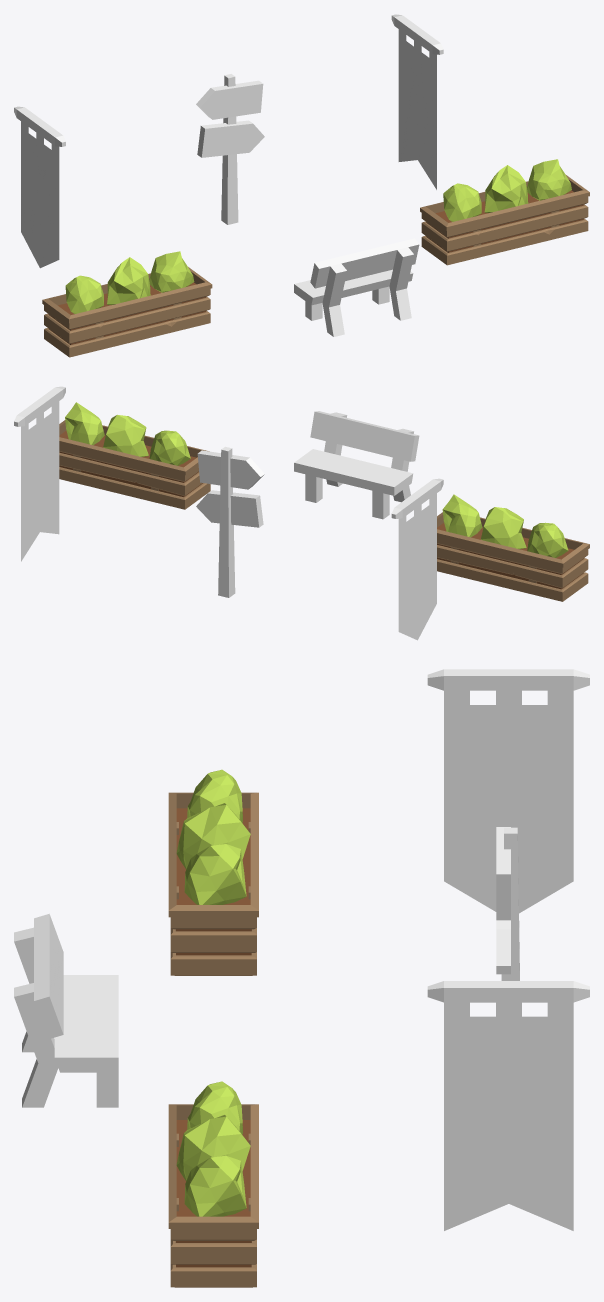
Rendered from combo-wayfinding-node.glb.
The picture shows the model from 3 angles, top to bottom: view 1: azimuth 30°, elevation 25°; view 2: azimuth 150°, elevation 25°; view 3: azimuth 270°, elevation 25°; orthographic projection. The views are drawn at different scales.
Visible parts, largest first — view 1: 04_asset-072, 03_asset-072, 05_asset-096, 02_asset-099, 01_asset-100, 00_asset-090; view 2: 03_asset-072, 04_asset-072, 05_asset-096, 02_asset-099, 01_asset-100, 00_asset-090; view 3: 02_asset-099, 01_asset-100, 04_asset-072, 03_asset-072, 05_asset-096, 00_asset-090.
Part boxes in pixels (left/top/right/bottom): 04_asset-072: left=420, top=159, right=589, bottom=265; 03_asset-072: left=42, top=251, right=212, bottom=357; 05_asset-096: left=294, top=238, right=419, bottom=336; 02_asset-099: left=391, top=14, right=443, bottom=189; 01_asset-100: left=14, top=106, right=65, bottom=268; 00_asset-090: left=196, top=74, right=264, bottom=224; 03_asset-072: left=437, top=494, right=589, bottom=601; 04_asset-072: left=59, top=402, right=210, bottom=509; 05_asset-096: left=294, top=411, right=419, bottom=519; 02_asset-099: left=14, top=386, right=65, bottom=561; 01_asset-100: left=391, top=478, right=443, bottom=640; 00_asset-090: left=196, top=446, right=264, bottom=597; 02_asset-099: left=427, top=981, right=589, bottom=1230; 01_asset-100: left=427, top=669, right=589, bottom=913; 04_asset-072: left=168, top=1081, right=258, bottom=1287; 03_asset-072: left=168, top=769, right=258, bottom=975; 05_asset-096: left=14, top=913, right=118, bottom=1107; 00_asset-090: left=496, top=827, right=519, bottom=980.
Bounding box in the file's own units: 6.9 × 1.85 × 3.9.
